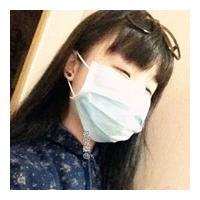face_mask: (77, 42, 160, 134)
